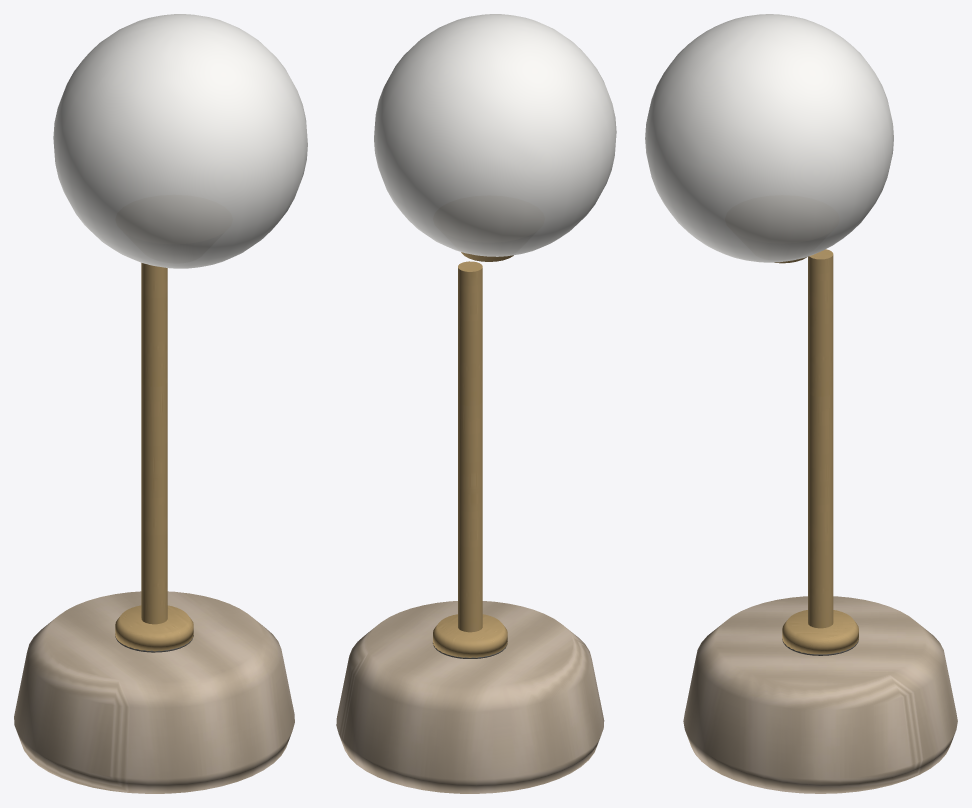
Rendered from kowhai-hero-liv-06.glb.
3 renders of one model, left to right at view 1: azimuth 30°, elevation 25°; view 2: azimuth 150°, elevation 25°; view 3: azimuth 270°, elevation 25°, orthographic. The views are drawn at different scales.
Visible parts, largest first — view 1: TableLamp_OpalGlassShade, TableLamp_TurnedAshBase, TableLamp_BrassStem, SubPart; view 2: TableLamp_OpalGlassShade, TableLamp_TurnedAshBase, TableLamp_BrassStem, SubPart; view 3: TableLamp_OpalGlassShade, TableLamp_TurnedAshBase, TableLamp_BrassStem, SubPart.
Boxes of the visible parts, x1,y1,x2,y2 form: TableLamp_OpalGlassShade: (53, 14, 307, 268); TableLamp_TurnedAshBase: (14, 591, 294, 793); TableLamp_BrassStem: (141, 263, 167, 624); SubPart: (115, 605, 193, 651); TableLamp_OpalGlassShade: (374, 14, 616, 256); TableLamp_TurnedAshBase: (336, 601, 604, 793); TableLamp_BrassStem: (458, 261, 482, 632); SubPart: (433, 614, 507, 657); TableLamp_OpalGlassShade: (645, 14, 893, 262); TableLamp_TurnedAshBase: (683, 596, 957, 793); TableLamp_BrassStem: (808, 249, 833, 628); SubPart: (782, 610, 858, 654).
Bounding box in the file's own units: 0.172 × 0.493 × 0.196.
Materials: 4 (2 with a texture image).
